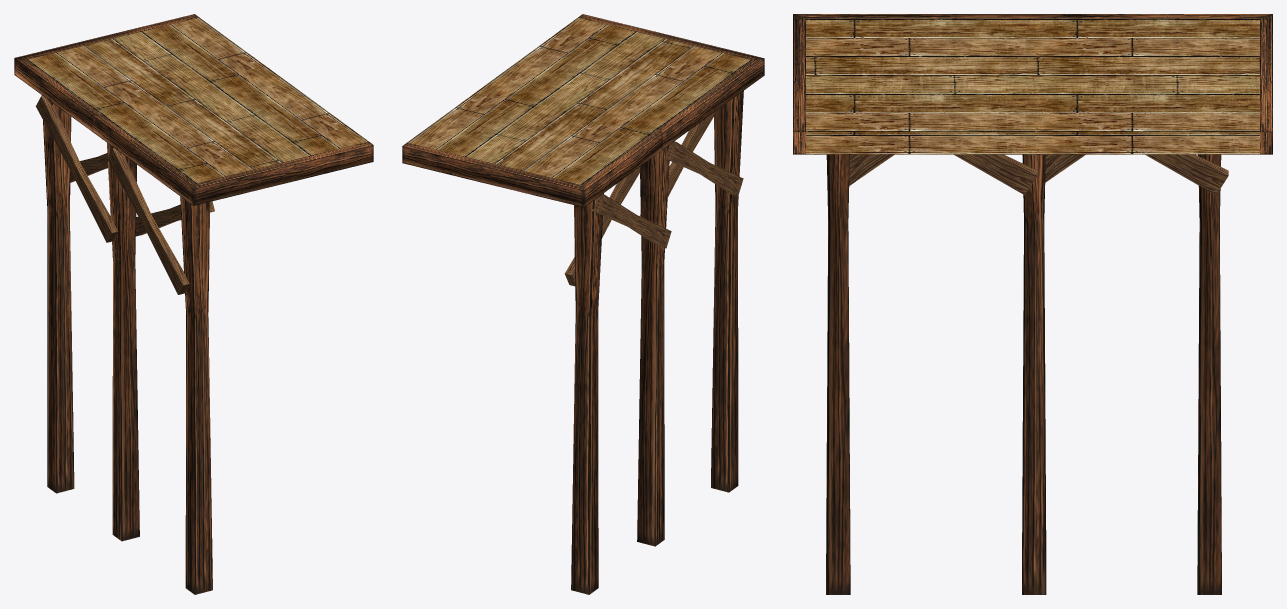
File: LAKETOWN_WAREHOUSE2_PS_WH2_PIER488476__GX.fbx
3 renders of one model, left to right at view 1: azimuth 30°, elevation 25°; view 2: azimuth 150°, elevation 25°; view 3: azimuth 270°, elevation 25°, orthographic. The views are drawn at different scales.
Parts seen in each view (by area): view 1: LAKETOWN_WAREHOUSE2_PS_WH2_PIER488476__GX; view 2: LAKETOWN_WAREHOUSE2_PS_WH2_PIER488476__GX; view 3: LAKETOWN_WAREHOUSE2_PS_WH2_PIER488476__GX.
Part boxes in pixels (x1=…): LAKETOWN_WAREHOUSE2_PS_WH2_PIER488476__GX: x1=14, y1=14, x2=373, y2=594; LAKETOWN_WAREHOUSE2_PS_WH2_PIER488476__GX: x1=402, y1=14, x2=764, y2=594; LAKETOWN_WAREHOUSE2_PS_WH2_PIER488476__GX: x1=793, y1=14, x2=1272, y2=594.
Size of the model in its own units: 38395 by 85035 by 65990.
Materials: 3 (3 with a texture image).
